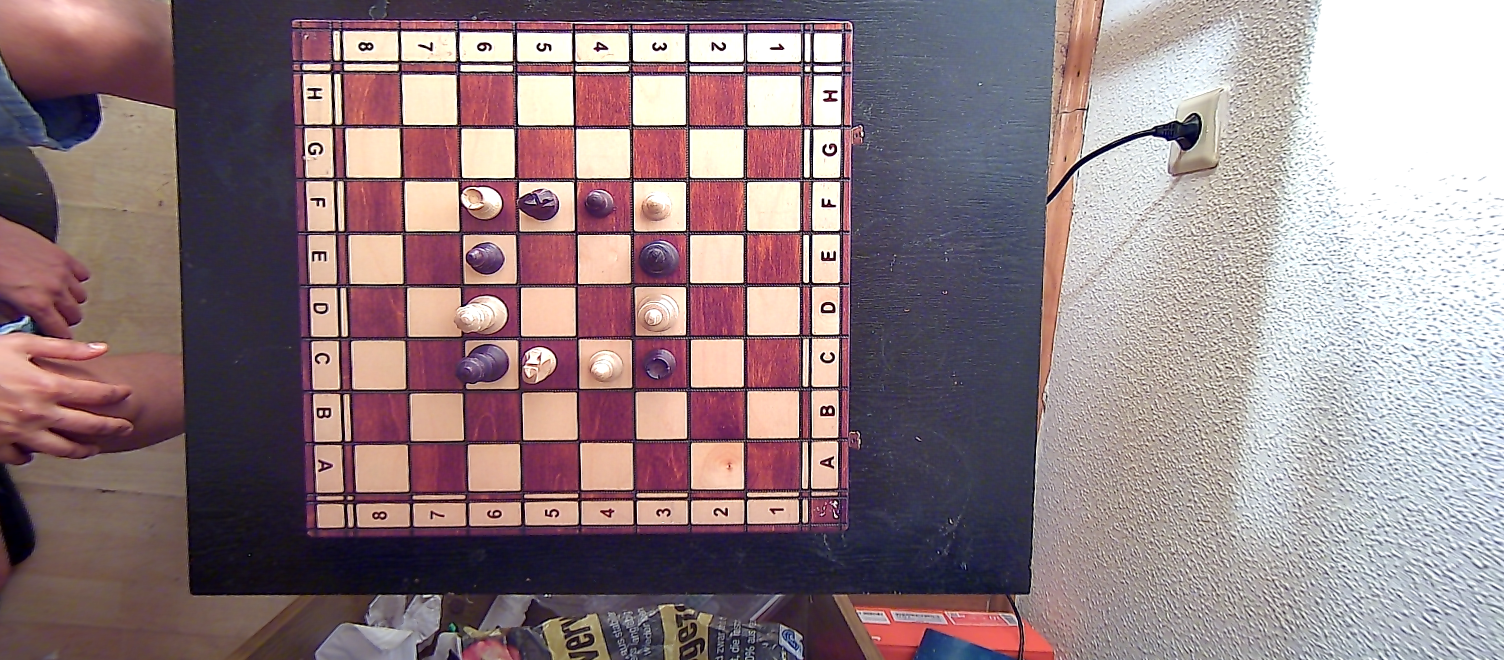black-bishop: (465, 237, 508, 280)
black-king: (637, 238, 678, 278)
black-knight: (514, 185, 561, 226)
black-pawn: (579, 184, 617, 222)
black-queen: (454, 342, 512, 389)
black-rook: (642, 346, 678, 384)
white-bishop: (586, 347, 624, 384)
white-king: (635, 289, 681, 334)
white-knight: (519, 342, 560, 385)
white-pawn: (641, 190, 676, 224)
white-queen: (453, 293, 510, 334)
white-rook: (456, 181, 503, 222)
